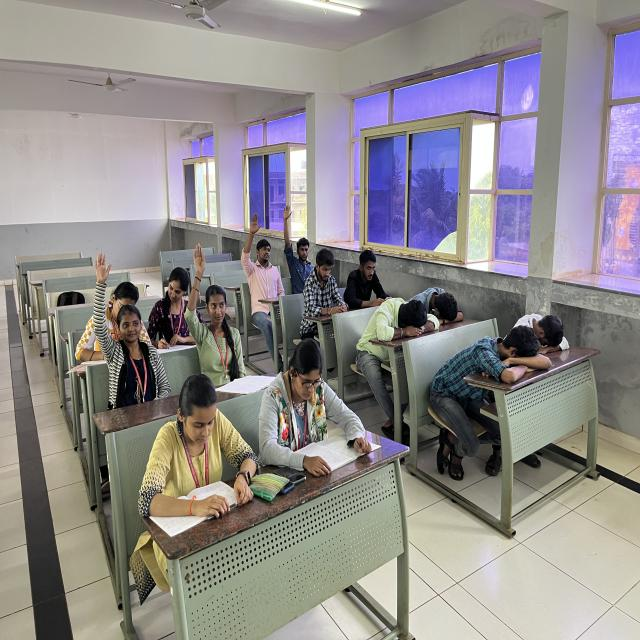Hand Rising: (85, 247, 168, 408), (183, 233, 249, 388), (240, 205, 287, 318), (277, 201, 313, 300)
Reading: (136, 367, 263, 516), (251, 336, 378, 479)
Sleeping: (420, 322, 542, 409), (353, 294, 433, 382), (508, 298, 574, 362), (402, 278, 470, 333)
Writing: (147, 266, 201, 354)
